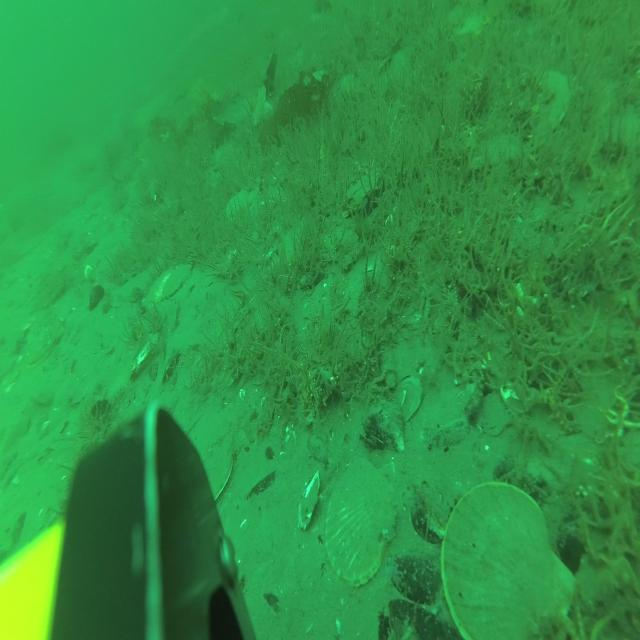scallop: (442, 479, 575, 640), (325, 459, 399, 588), (184, 402, 248, 508), (527, 72, 575, 136), (143, 260, 193, 307), (27, 317, 66, 369), (227, 191, 258, 225)
